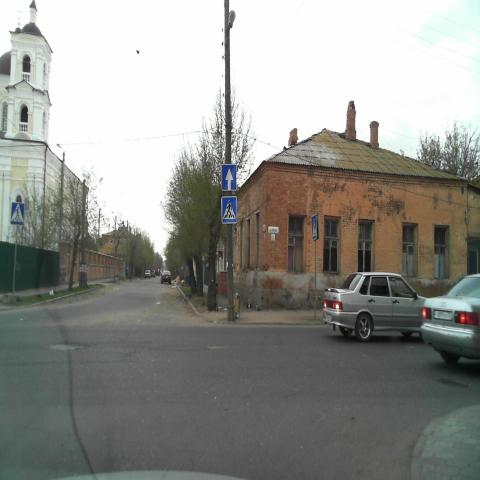5_5: (221, 162, 236, 192)
